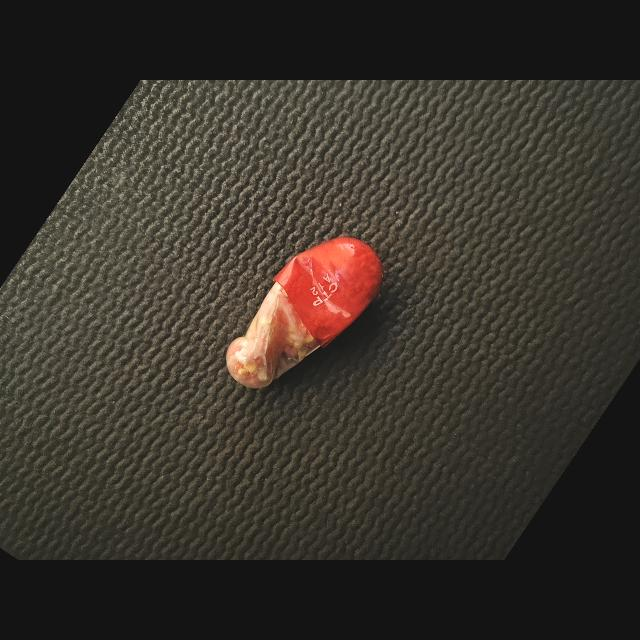Defective Capsule: (226, 237, 383, 388)
